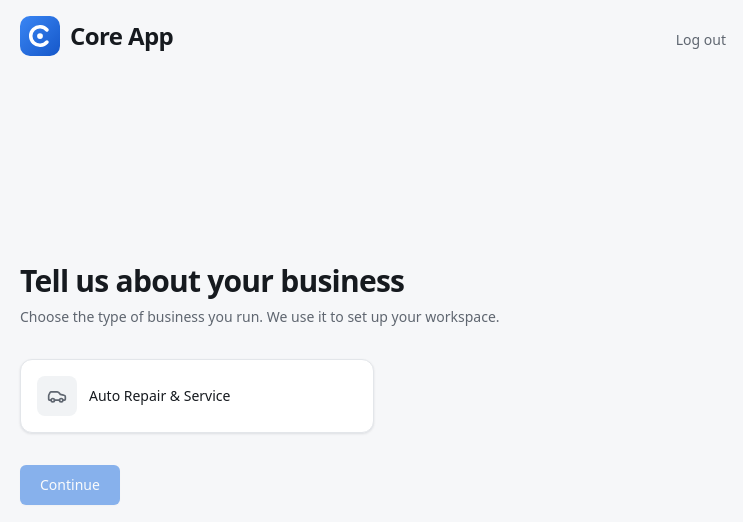
business setup › asks the owner to choose a business type before opening the dashboard
Later steps or results of the test are not shown.
expect the heading "Tell us about your business" is shown: met, box [20,260,404,301]
expect the button "Continue" is disabled: met, box [20,465,120,505]
What coordinates should you click on to do the following:
click the radio button labelled "Auto Repair & Service"
I would click on:
 (197, 396)
Its box is [20,359,374,433].
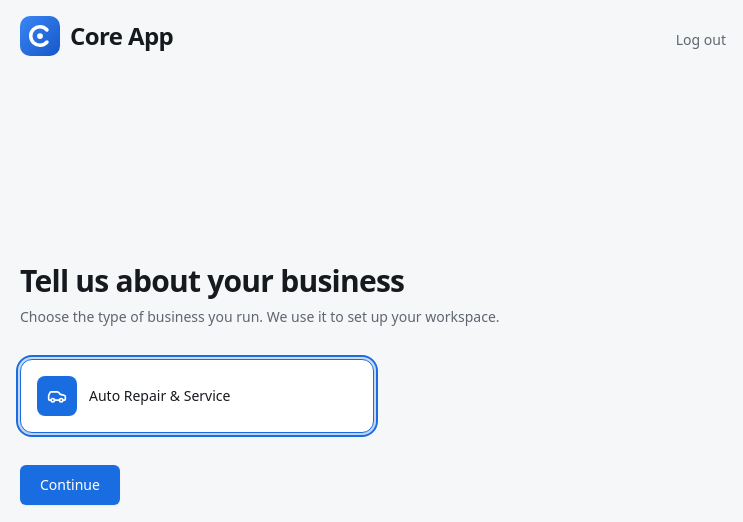
expect the button "Continue" is enabled: met, box [20,465,120,505]
